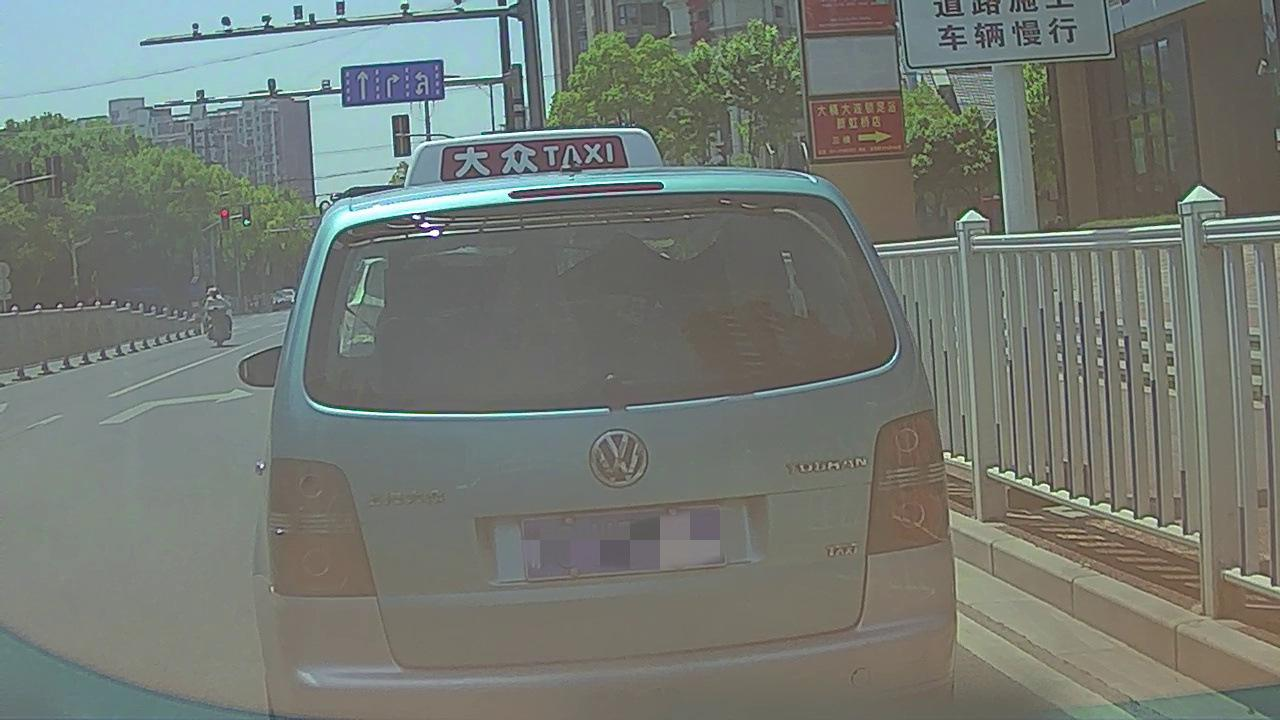traffic_light: (221, 208, 229, 227), (243, 206, 250, 226)
